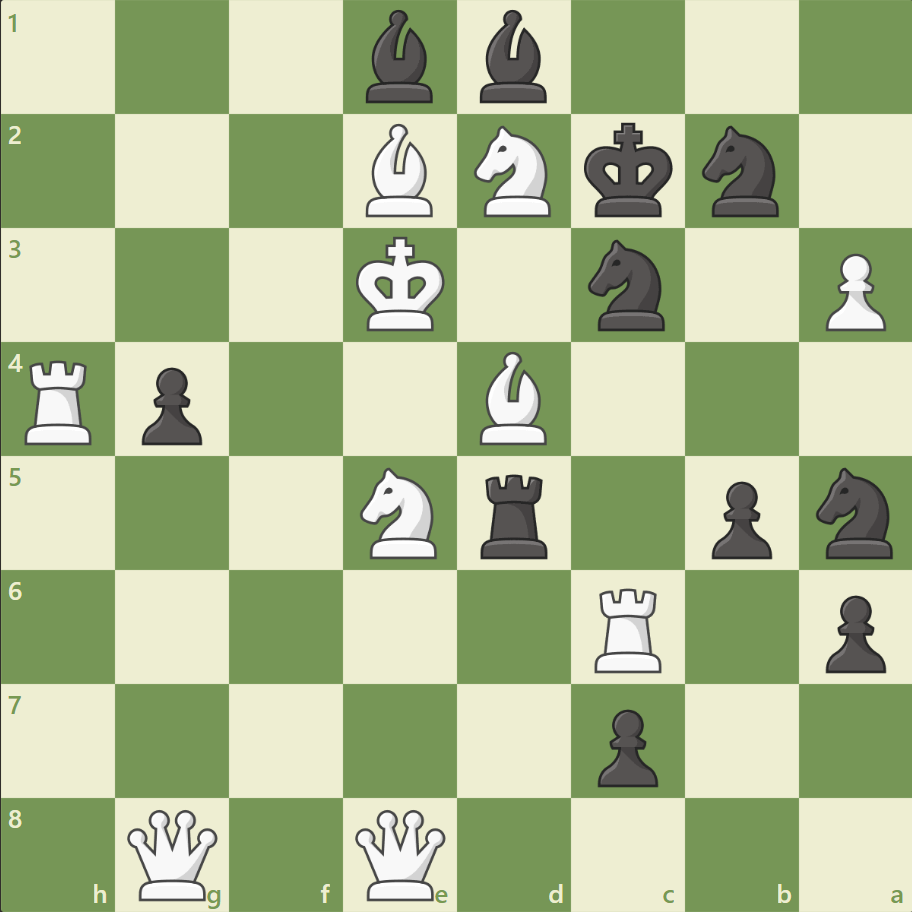B: (471, 347, 555, 449), (358, 120, 442, 222)
K: (351, 231, 451, 339)
N: (351, 461, 449, 564), (465, 121, 562, 223)
P: (815, 246, 889, 337)
Q: (351, 804, 450, 903), (124, 804, 223, 903)
R: (587, 579, 670, 676), (19, 352, 102, 449)
b: (471, 6, 555, 109), (358, 6, 442, 109)
k: (579, 117, 679, 225)
n: (806, 461, 903, 564), (579, 234, 676, 337), (692, 121, 789, 223)
p: (701, 473, 776, 564), (133, 359, 208, 450), (588, 700, 662, 791), (815, 586, 889, 677)
r: (473, 466, 556, 563)
